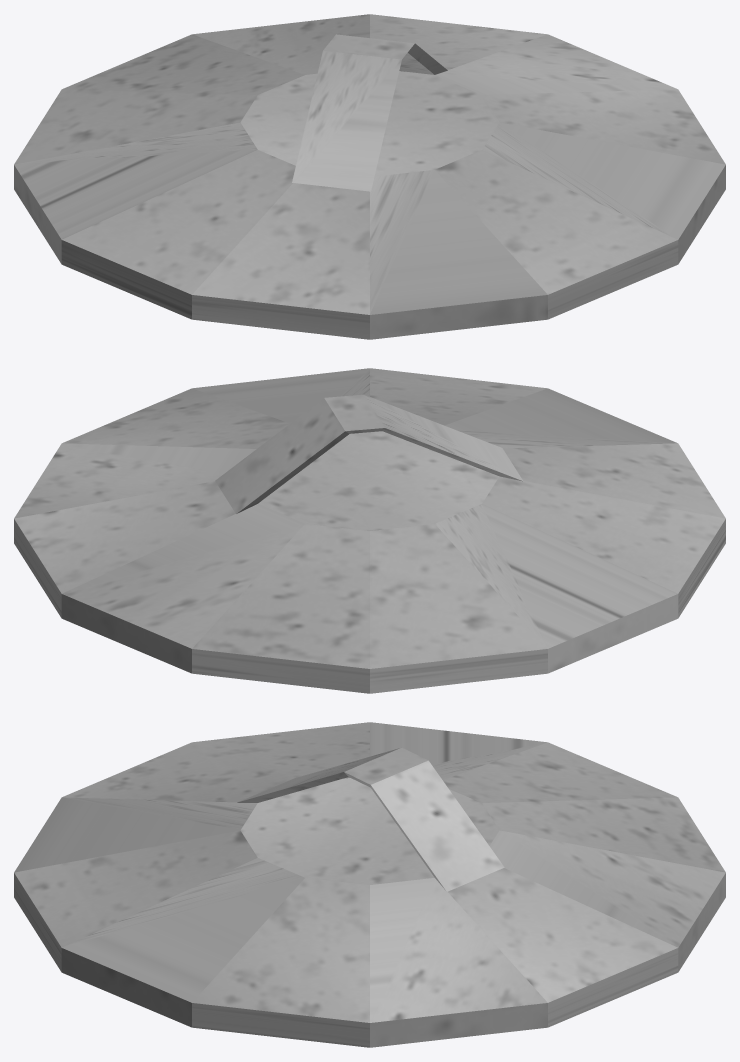
The model's file is trashcancover.dae.
3 views of the same model, one above another, from view 1: azimuth 30°, elevation 25°; view 2: azimuth 150°, elevation 25°; view 3: azimuth 270°, elevation 25° (orthographic).
Parts seen in each view (by area): view 1: Circle; view 2: Circle; view 3: Circle.
Part boxes in pixels (box(x1,y1,x2,y2)): Circle: box(14, 14, 725, 339); Circle: box(14, 368, 725, 693); Circle: box(14, 722, 725, 1047).
Bounding box in the file's own units: 2.29 × 2.29 × 0.4782.
